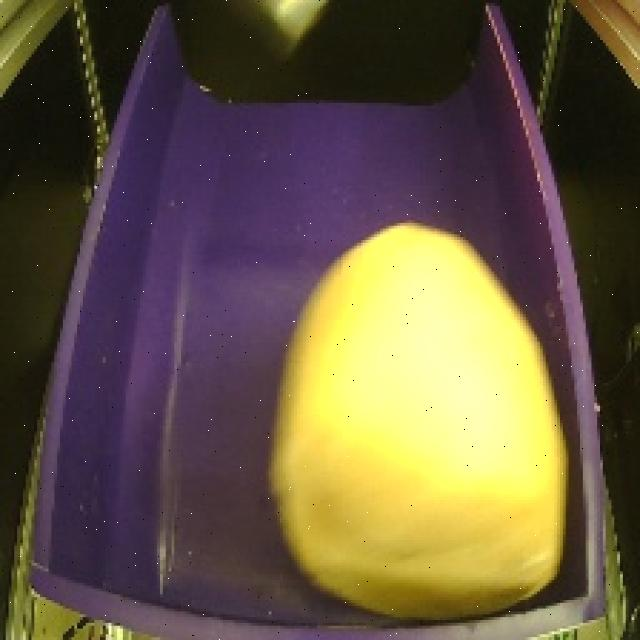full_potato: (258, 215, 590, 632)
